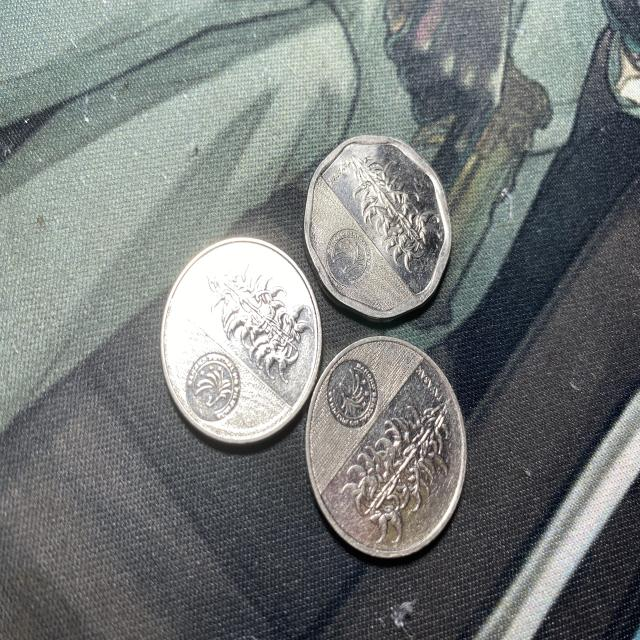5_New_Back: (342, 396, 457, 535), (198, 259, 315, 374), (345, 145, 436, 260)
